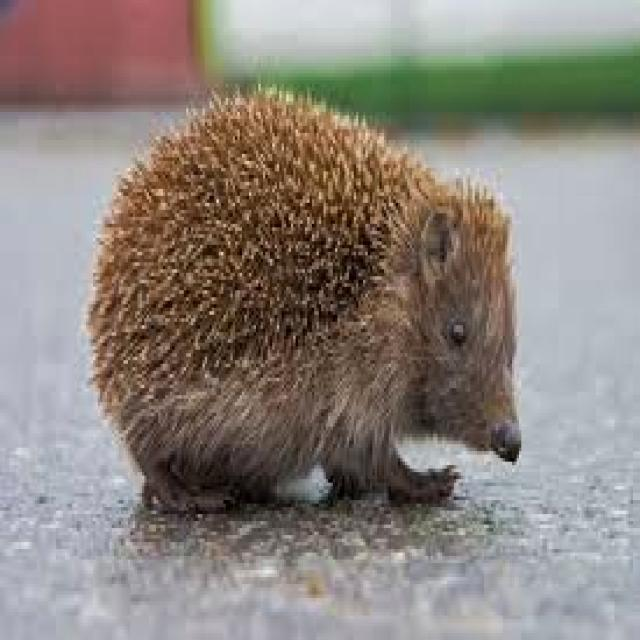hedgehog: (86, 87, 519, 511)
